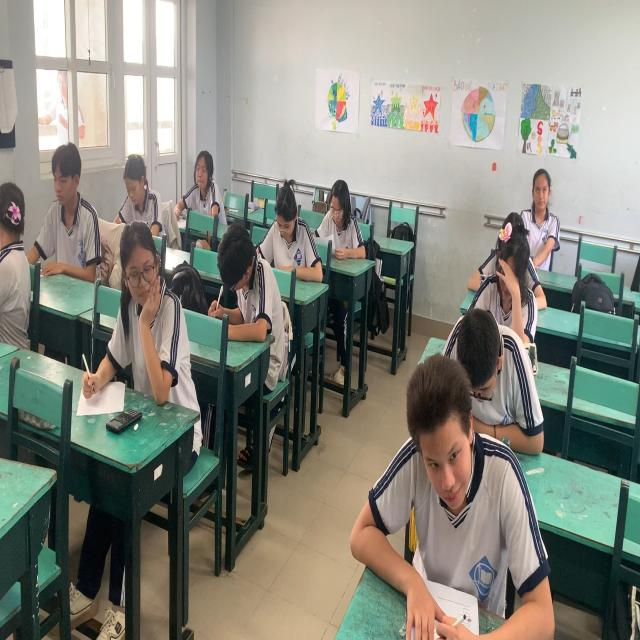cheating: (1, 174, 40, 344)
not_cheating: (394, 357, 522, 556), (105, 219, 194, 432), (209, 220, 279, 382), (445, 302, 531, 411), (43, 142, 98, 298), (476, 207, 522, 334), (320, 155, 359, 281), (511, 150, 562, 245), (266, 166, 302, 294), (116, 154, 162, 246), (185, 146, 221, 232)
